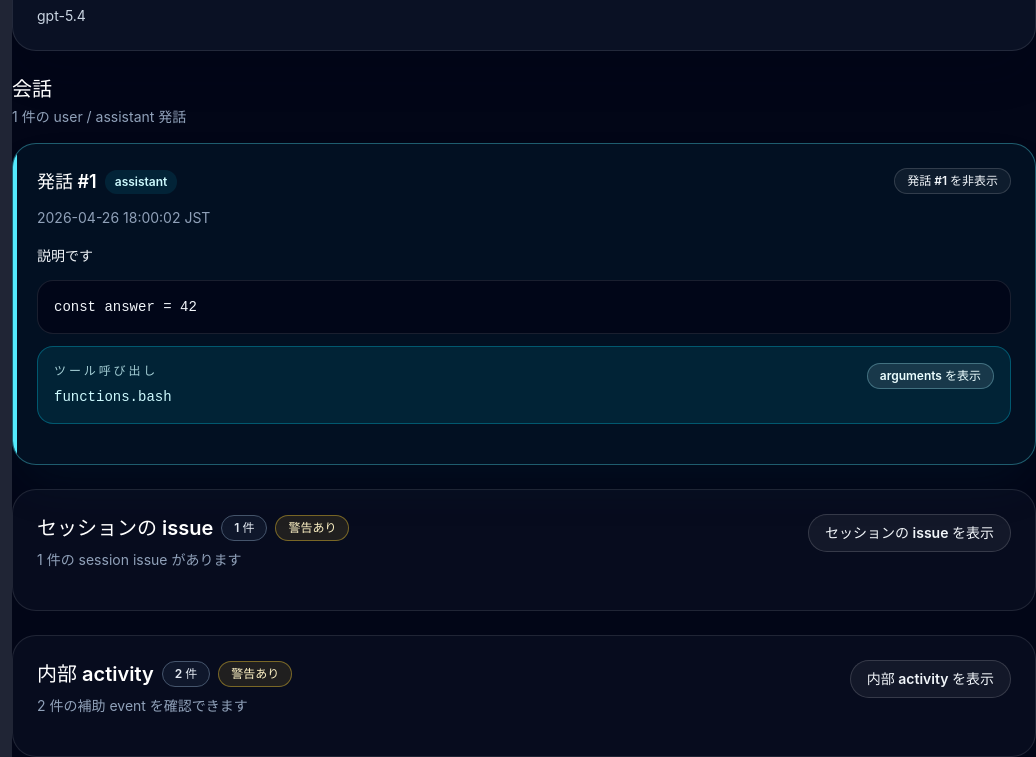
SessionDetailPage › renders disclosures after the conversation and expands session issues only on demand
The image size is (1036, 757).
(page scrolled)
Expected: the text "session timeline is incomplete" is not shown
Expected: the text "セッション全体" is not shown
Click the button "セッションの issue を表示" at [910, 533], box [808, 514, 1011, 552]
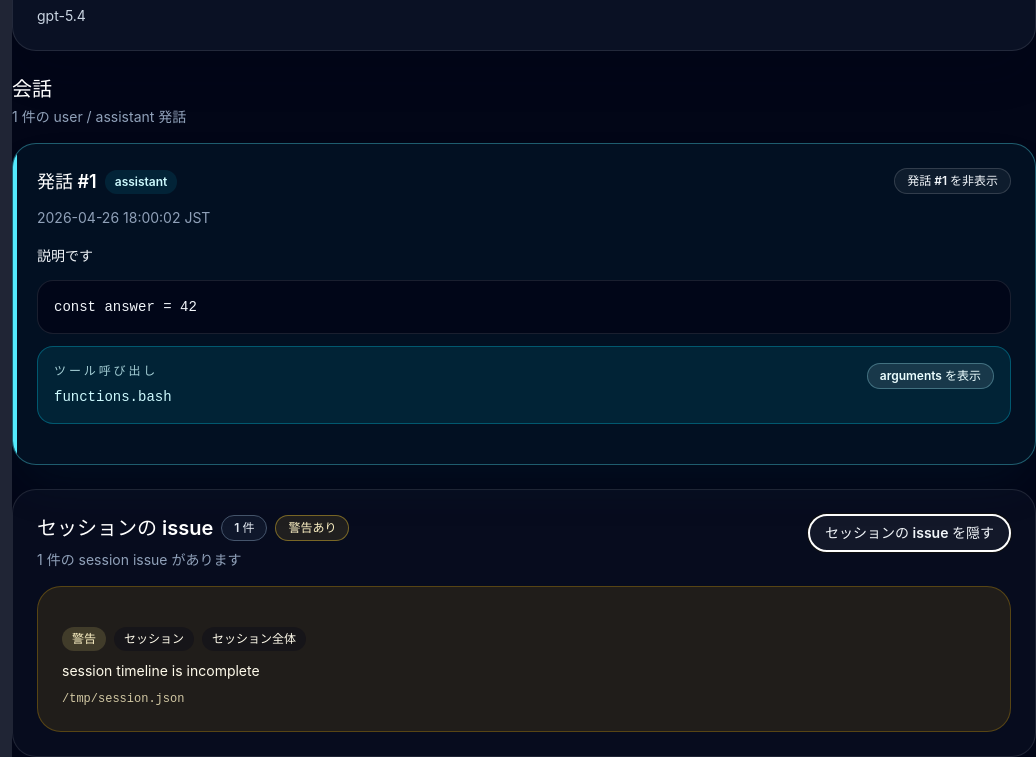
Result: the text "session timeline is incomplete" is shown at [62, 662, 260, 679]
Result: the text "警告" is shown at [62, 627, 106, 651]
Result: the text "セッション全体" is shown at [202, 627, 306, 651]
